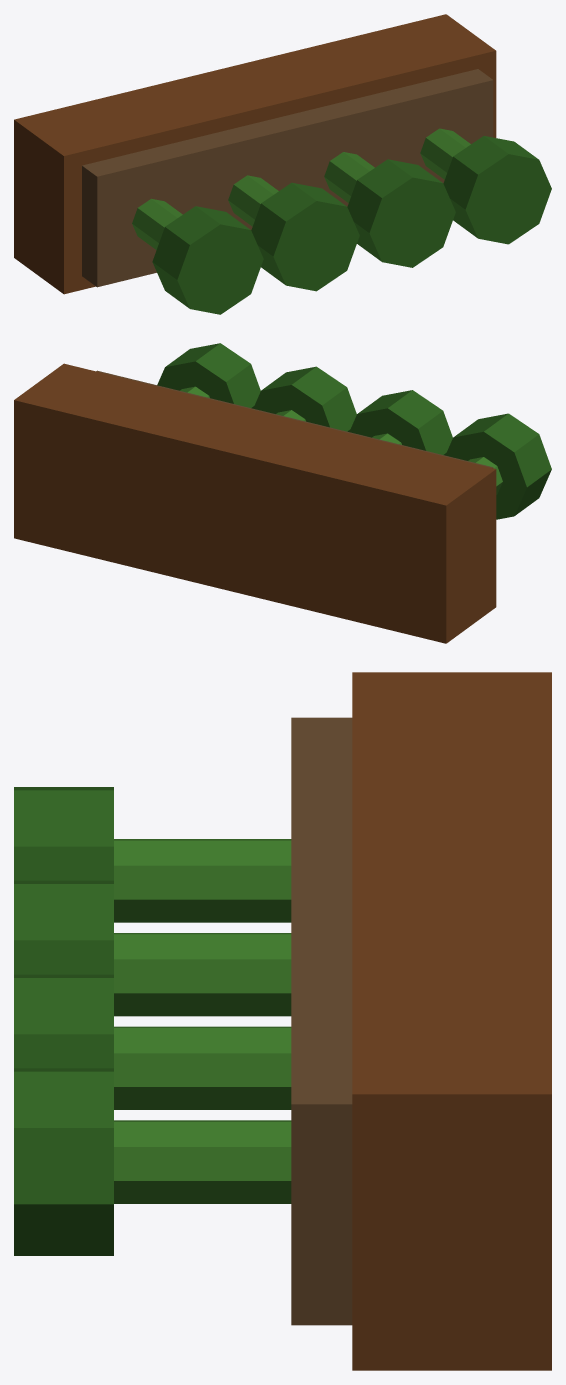
Rendered from SM_ShFlowerBox.obj.
The picture shows the model from 3 angles, top to bottom: view 1: azimuth 30°, elevation 25°; view 2: azimuth 150°, elevation 25°; view 3: azimuth 270°, elevation 25°; orthographic projection. The views are drawn at different scales.
Size of the model in its own units: 180 by 55 by 97.
